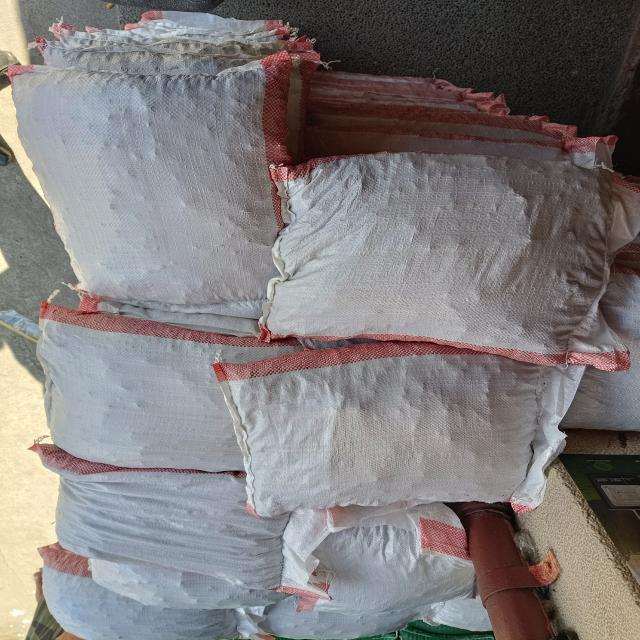Gravel: (13, 53, 285, 318), (292, 162, 626, 333), (241, 361, 561, 499), (43, 331, 305, 469), (63, 479, 281, 578), (54, 546, 236, 640), (303, 504, 470, 606)
